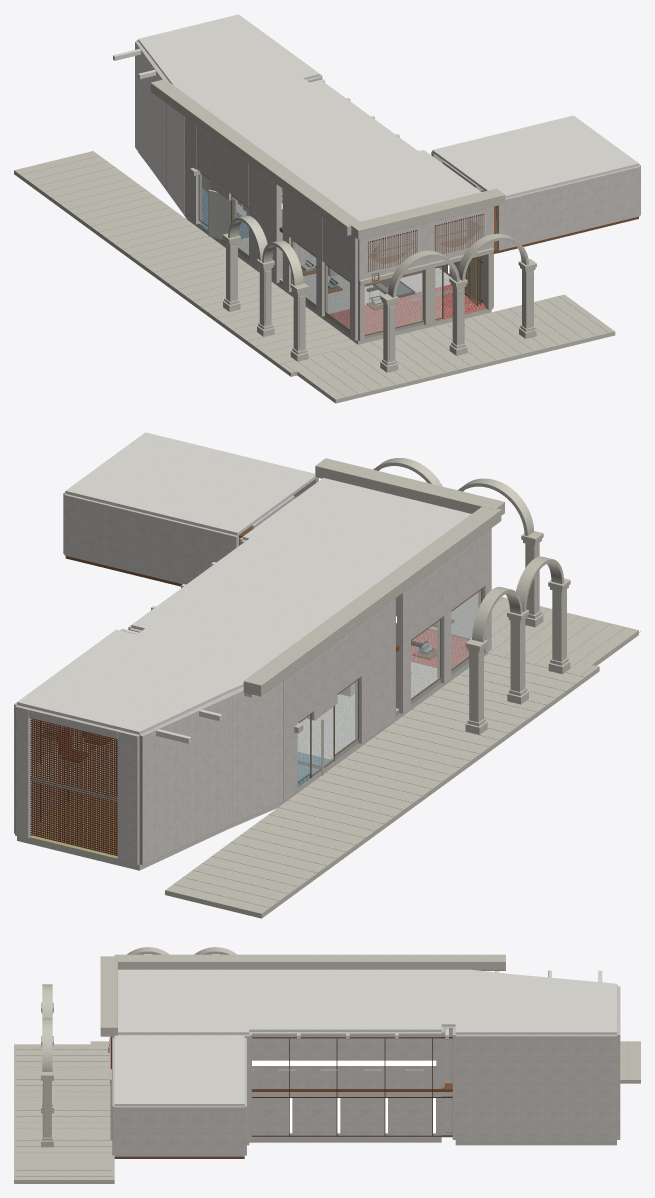
3 renders of one model, top to bottom at view 1: azimuth 30°, elevation 25°; view 2: azimuth 150°, elevation 25°; view 3: azimuth 270°, elevation 25°, orthographic. The views are drawn at different scales.
Parts seen in each view (by area): view 1: 24_Complete_Architecture; view 2: 24_Complete_Architecture; view 3: 24_Complete_Architecture.
Part boxes in pixels (x1,y1,x2,y2): 24_Complete_Architecture: (14,14,640,403); 24_Complete_Architecture: (14,432,640,918); 24_Complete_Architecture: (14,947,640,1183).
Bounding box in the file's own units: 17.37 × 5.73 × 26.2.
Materials: 58 (30 with a texture image).
